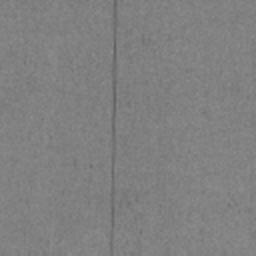Scratches: (109, 0, 119, 256)
